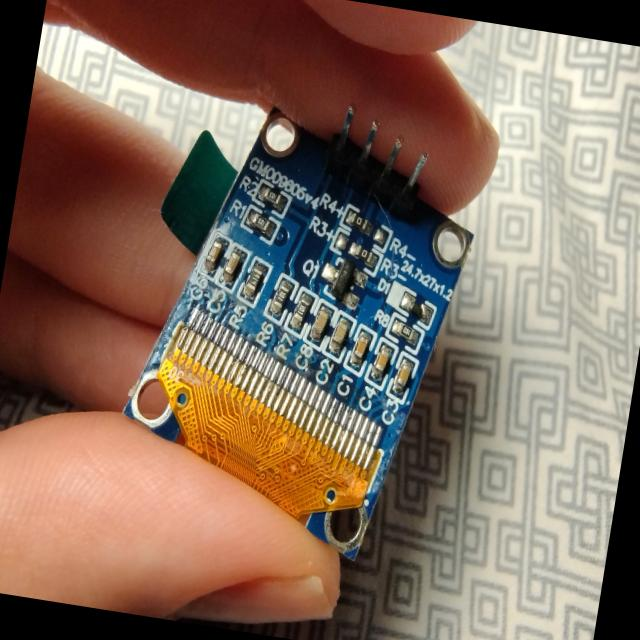oled: (107, 64, 501, 584)
